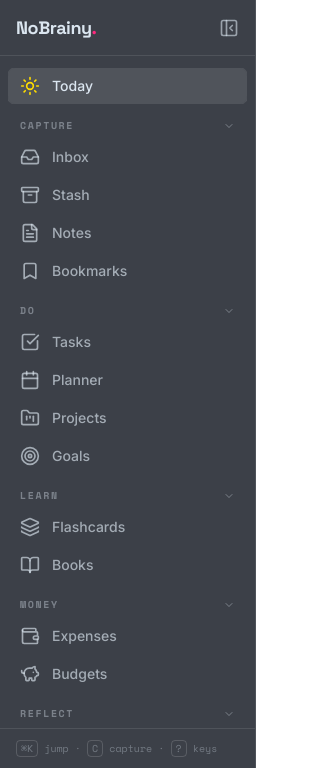
Sidebar (grouped) › collapses a group and hides its items
Click the button with test id "nav-group-learn". click: (128, 496)
box: 8,482 -> 247,509
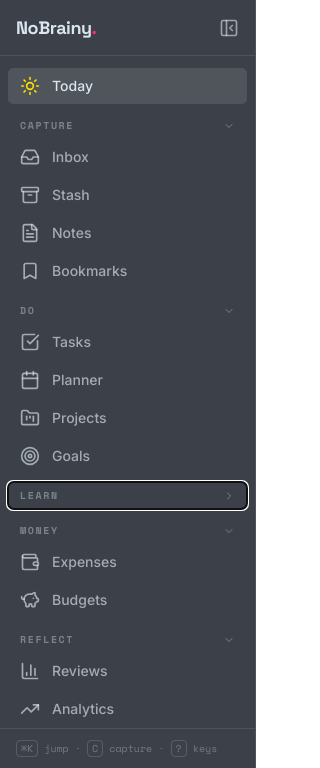
Expected: the link with test id "nav-item-/books" is gone
